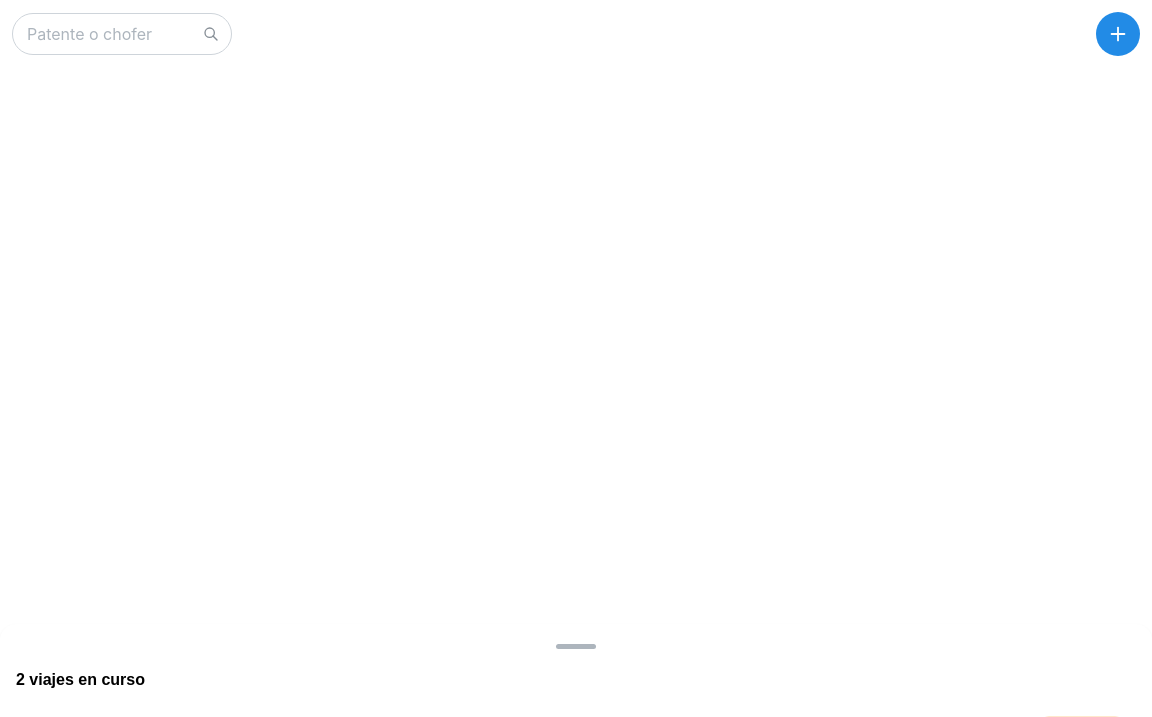
Test case: MapaMobile › filtra la lista al buscar y actualiza el contador
In the field named "Buscar por patente o chofer": (122,34) x1=12 y1=13 x2=232 y2=55, type "AAA"
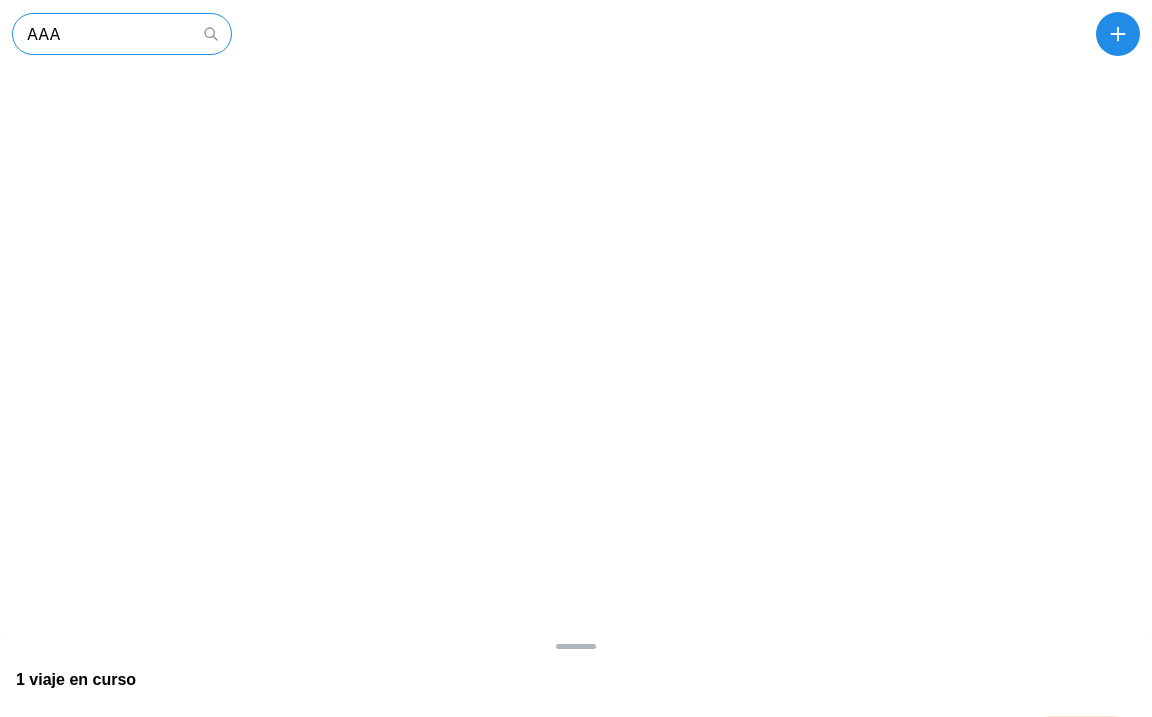
Result: the text with test id "map-bottom-sheet-title" reads "1 viaje en curso" at x1=16 y1=671 x2=136 y2=688
